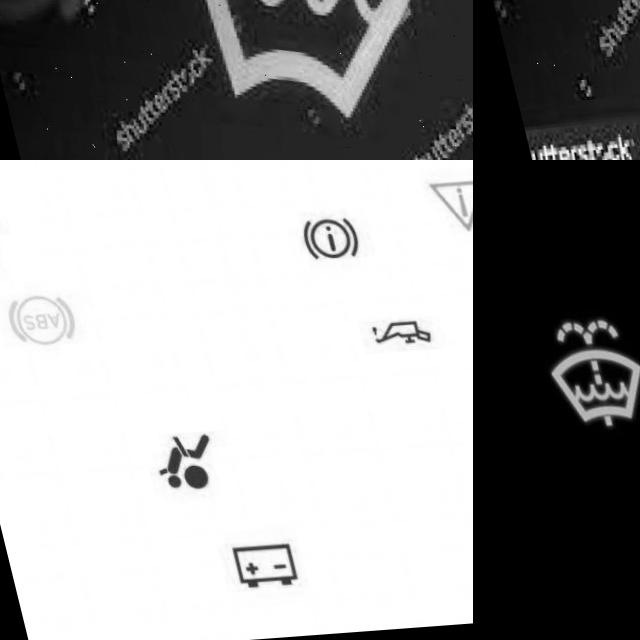Washer Fluid: (142, 0, 463, 131), (522, 319, 635, 437)
